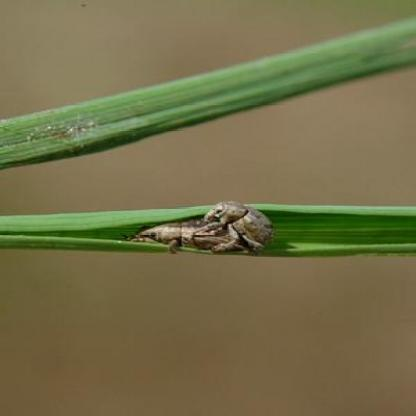rice-bug: (132, 201, 278, 258)
